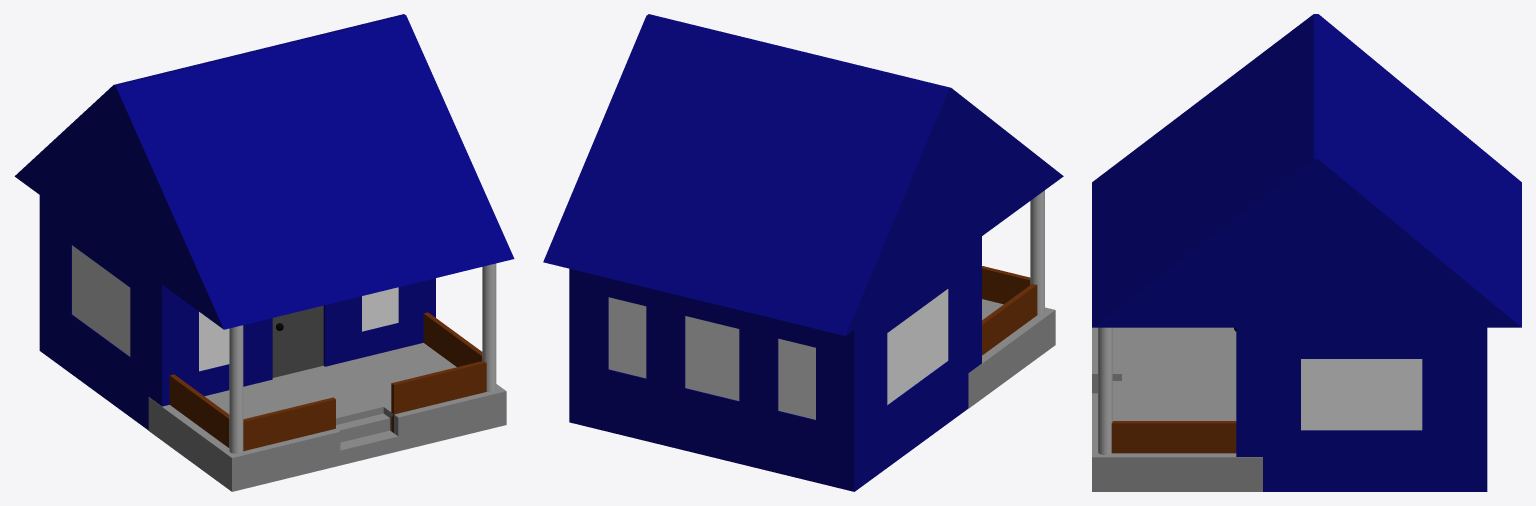
Rendered from House 1.fbx.
The picture shows the model from 3 angles, left to right: view 1: azimuth 30°, elevation 25°; view 2: azimuth 150°, elevation 25°; view 3: azimuth 270°, elevation 25°; orthographic projection. The views are drawn at different scales.
Parts seen in each view (by area): view 1: House 1; view 2: House 1; view 3: House 1.
Boxes of the visible parts, x1=… form: House 1: x1=14, y1=14, x2=514, y2=491; House 1: x1=543, y1=14, x2=1063, y2=491; House 1: x1=1092, y1=14, x2=1521, y2=491.
Size of the model in its own units: 932 by 1006 by 1165.
